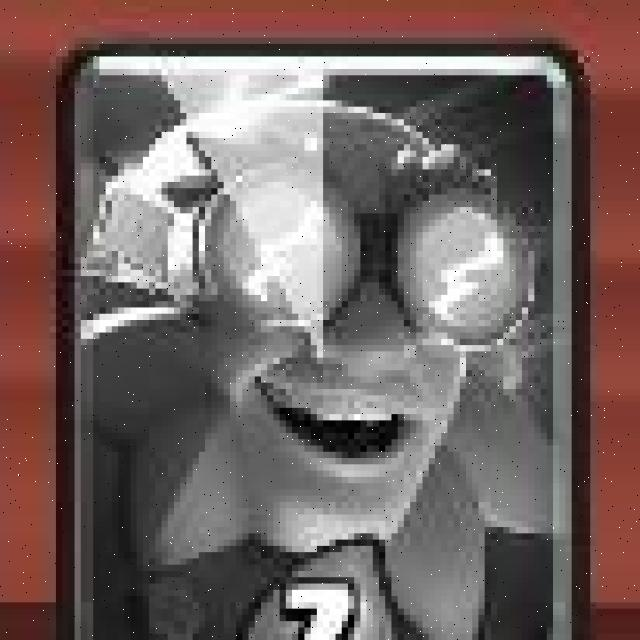Electro_Giant: (53, 41, 591, 640)
